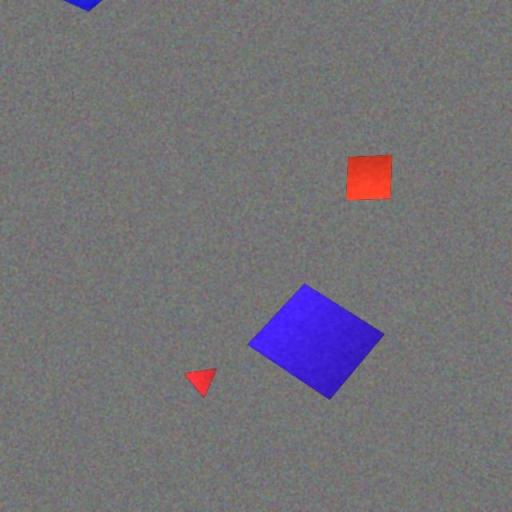BLUE_SQUARE: (246, 283, 386, 401)
RED_SQUARE: (346, 154, 392, 201)
